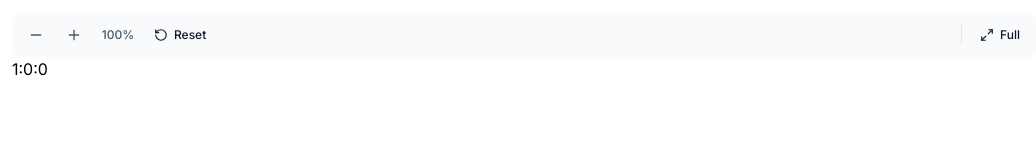
Test: SatQuestionImageEnlarge › opens at 100% and steps in discrete 25% increments in place
Check: the message reads "100%", box x1=102 y1=27 x2=134 y2=42
Check: the button named "Zoom out" is disabled, box x1=18 y1=17 x2=54 y2=53
Click the button named "Zoom in" at (74, 35), box x1=56 y1=17 x2=92 y2=53
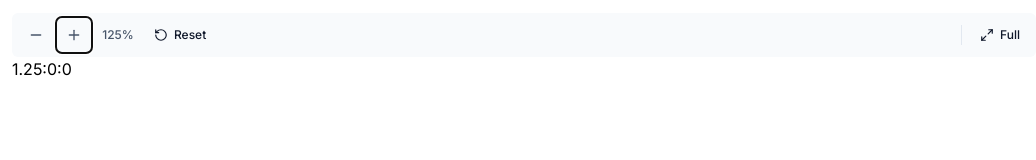
Check: the message reads "125%", box x1=102 y1=27 x2=134 y2=42
Click the button named "Zoom in" at (74, 35), box x1=56 y1=17 x2=92 y2=53
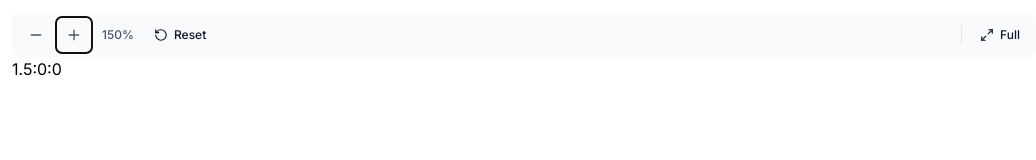
Check: the message reads "150%", box x1=102 y1=27 x2=134 y2=42
Check: the text with test id "view" reads "1.5:0:0", box x1=12 y1=59 x2=62 y2=79
Click the button with aria-label "Reset zoom" at (180, 35), box x1=144 y1=17 x2=216 y2=53
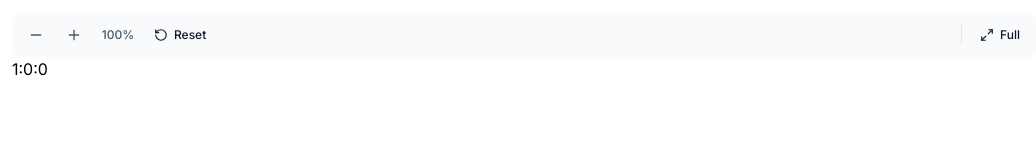
Check: the text with test id "view" reads "1:0:0", box x1=12 y1=59 x2=48 y2=79
